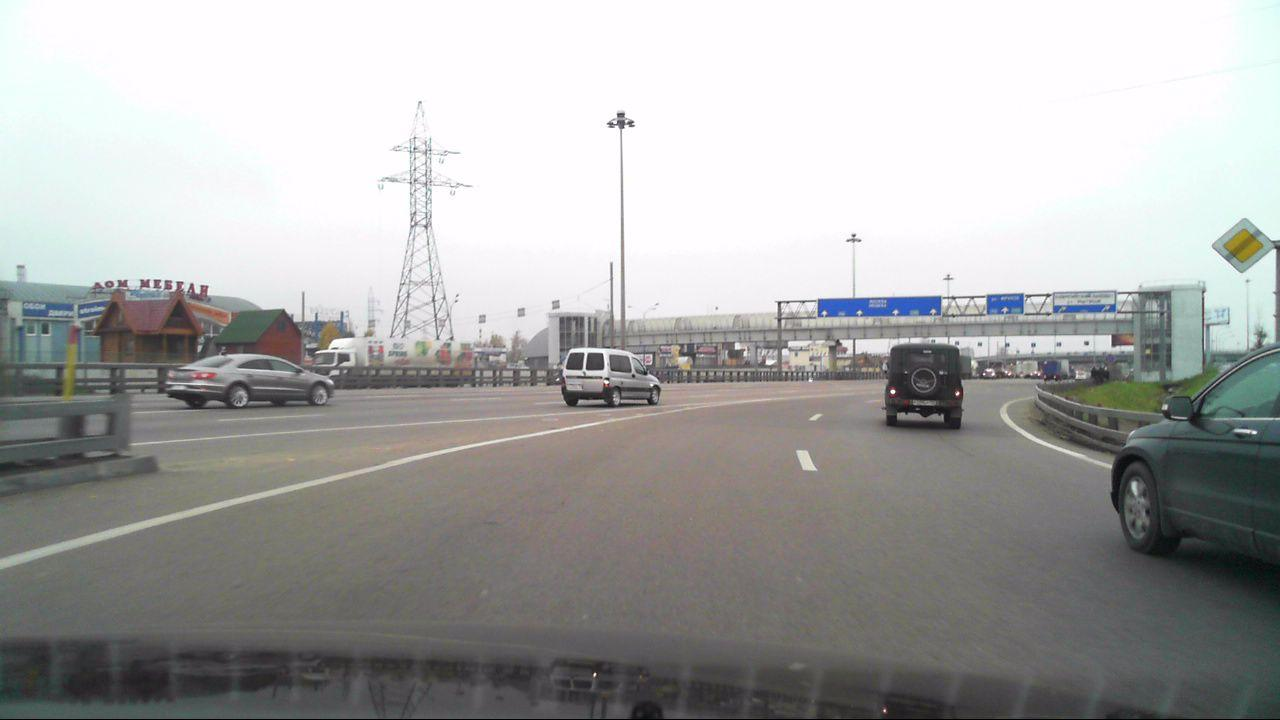2_2: (1212, 215, 1272, 274)
